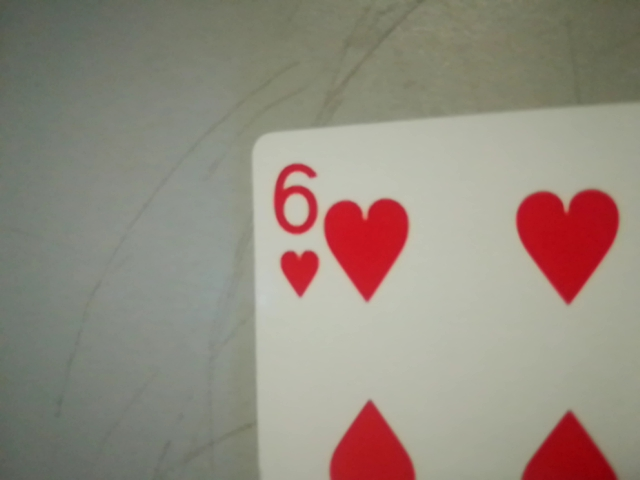hx 6: (261, 154, 326, 304)
